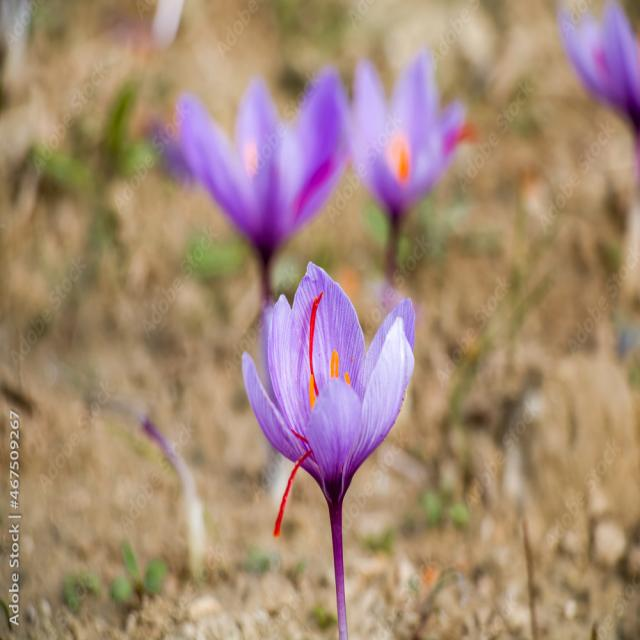saffron open: (242, 264, 414, 639), (165, 69, 350, 307), (351, 51, 465, 279)
